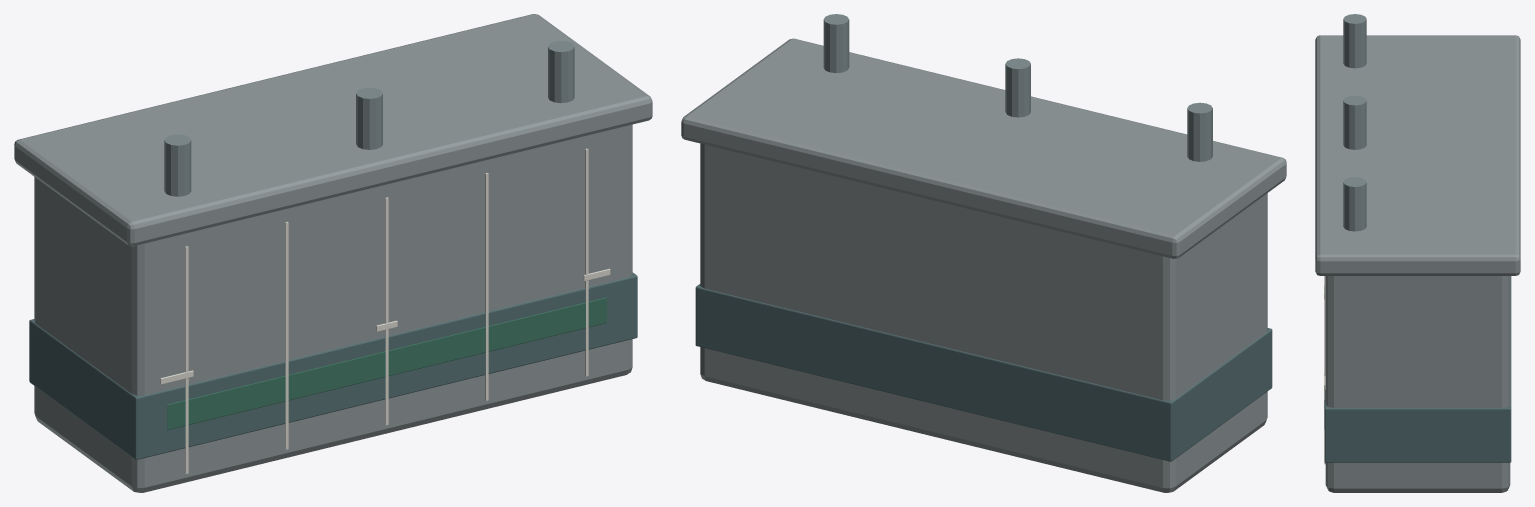
File: SM_FC01_Civil_Seawall_A.fbx
3 renders of one model, left to right at view 1: azimuth 30°, elevation 25°; view 2: azimuth 150°, elevation 25°; view 3: azimuth 270°, elevation 25°, orthographic. The views are drawn at different scales.
Parts seen in each view (by area): view 1: SM_FC01_Civil_Seawall_A_Caisson, SM_FC01_Civil_Seawall_A_Coping, SM_FC01_Civil_Seawall_A_WetBand, SM_FC01_Civil_Seawall_A_AlgaeBand, SM_FC01_Civil_Seawall_A_Bollard_-2.3, SM_FC01_Civil_Seawall_A_Bollard_0, SM_FC01_Civil_Seawall_A_Bollard_2.3, SM_FC01_Civil_Seawall_A_Joint_1, SM_FC01_Civil_Seawall_A_Joint_3, SM_FC01_Civil_Seawall_A_Joint_2, SM_FC01_Civil_Seawall_A_Joint_0, SM_FC01_Civil_Seawall_A_Joint_4; view 2: SM_FC01_Civil_Seawall_A_Caisson, SM_FC01_Civil_Seawall_A_Coping, SM_FC01_Civil_Seawall_A_WetBand, SM_FC01_Civil_Seawall_A_Bollard_2.3, SM_FC01_Civil_Seawall_A_Bollard_-2.3, SM_FC01_Civil_Seawall_A_Bollard_0; view 3: SM_FC01_Civil_Seawall_A_Coping, SM_FC01_Civil_Seawall_A_Caisson, SM_FC01_Civil_Seawall_A_WetBand, SM_FC01_Civil_Seawall_A_Bollard_2.3, SM_FC01_Civil_Seawall_A_Bollard_-2.3, SM_FC01_Civil_Seawall_A_Bollard_0, SM_FC01_Civil_Seawall_A_Joint_4.
Boxes of the visible parts, left/top/right/bottom form: SM_FC01_Civil_Seawall_A_Caisson: left=34, top=124, right=632, bottom=492; SM_FC01_Civil_Seawall_A_Coping: left=14, top=14, right=652, bottom=246; SM_FC01_Civil_Seawall_A_WetBand: left=29, top=272, right=637, bottom=459; SM_FC01_Civil_Seawall_A_AlgaeBand: left=167, top=297, right=606, bottom=430; SM_FC01_Civil_Seawall_A_Bollard_-2.3: left=164, top=134, right=191, bottom=196; SM_FC01_Civil_Seawall_A_Bollard_0: left=356, top=87, right=382, bottom=149; SM_FC01_Civil_Seawall_A_Bollard_2.3: left=548, top=40, right=574, bottom=103; SM_FC01_Civil_Seawall_A_Joint_1: left=285, top=221, right=288, bottom=449; SM_FC01_Civil_Seawall_A_Joint_3: left=485, top=173, right=488, bottom=400; SM_FC01_Civil_Seawall_A_Joint_2: left=385, top=197, right=388, bottom=425; SM_FC01_Civil_Seawall_A_Joint_0: left=185, top=246, right=188, bottom=473; SM_FC01_Civil_Seawall_A_Joint_4: left=585, top=148, right=588, bottom=376; SM_FC01_Civil_Seawall_A_Caisson: left=700, top=143, right=1267, bottom=492; SM_FC01_Civil_Seawall_A_Coping: left=681, top=38, right=1286, bottom=258; SM_FC01_Civil_Seawall_A_WetBand: left=695, top=284, right=1272, bottom=461; SM_FC01_Civil_Seawall_A_Bollard_2.3: left=823, top=14, right=849, bottom=73; SM_FC01_Civil_Seawall_A_Bollard_-2.3: left=1187, top=102, right=1212, bottom=161; SM_FC01_Civil_Seawall_A_Bollard_0: left=1005, top=58, right=1030, bottom=117; SM_FC01_Civil_Seawall_A_Coping: left=1315, top=35, right=1520, bottom=275; SM_FC01_Civil_Seawall_A_Caisson: left=1325, top=276, right=1510, bottom=492; SM_FC01_Civil_Seawall_A_WetBand: left=1324, top=276, right=1511, bottom=462; SM_FC01_Civil_Seawall_A_Bollard_2.3: left=1343, top=177, right=1366, bottom=231; SM_FC01_Civil_Seawall_A_Bollard_-2.3: left=1343, top=14, right=1366, bottom=68; SM_FC01_Civil_Seawall_A_Bollard_0: left=1343, top=95, right=1366, bottom=149; SM_FC01_Civil_Seawall_A_Joint_4: left=1324, top=276, right=1325, bottom=464.
Size of the model in its own units: 6.3 by 3.81 by 2.45.
